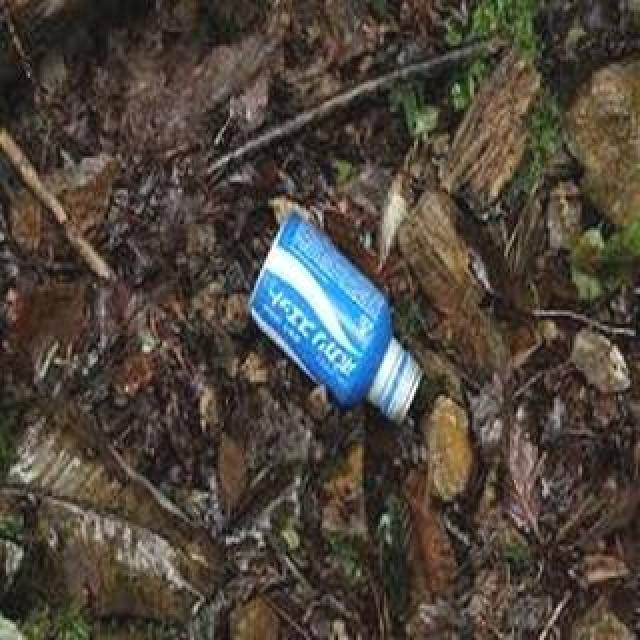Can: (247, 195, 435, 437)
